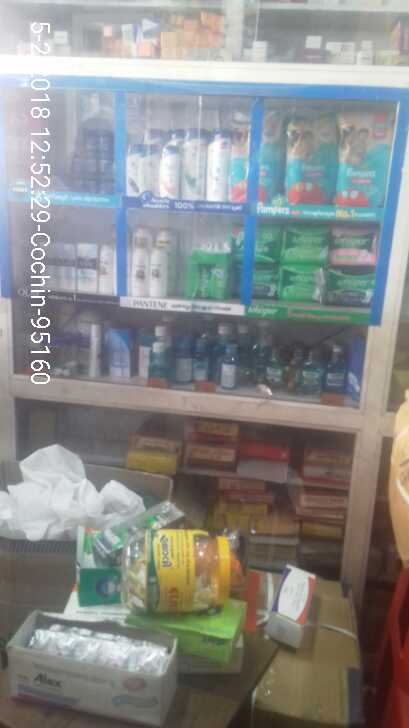vicks: (65, 135, 113, 195)
